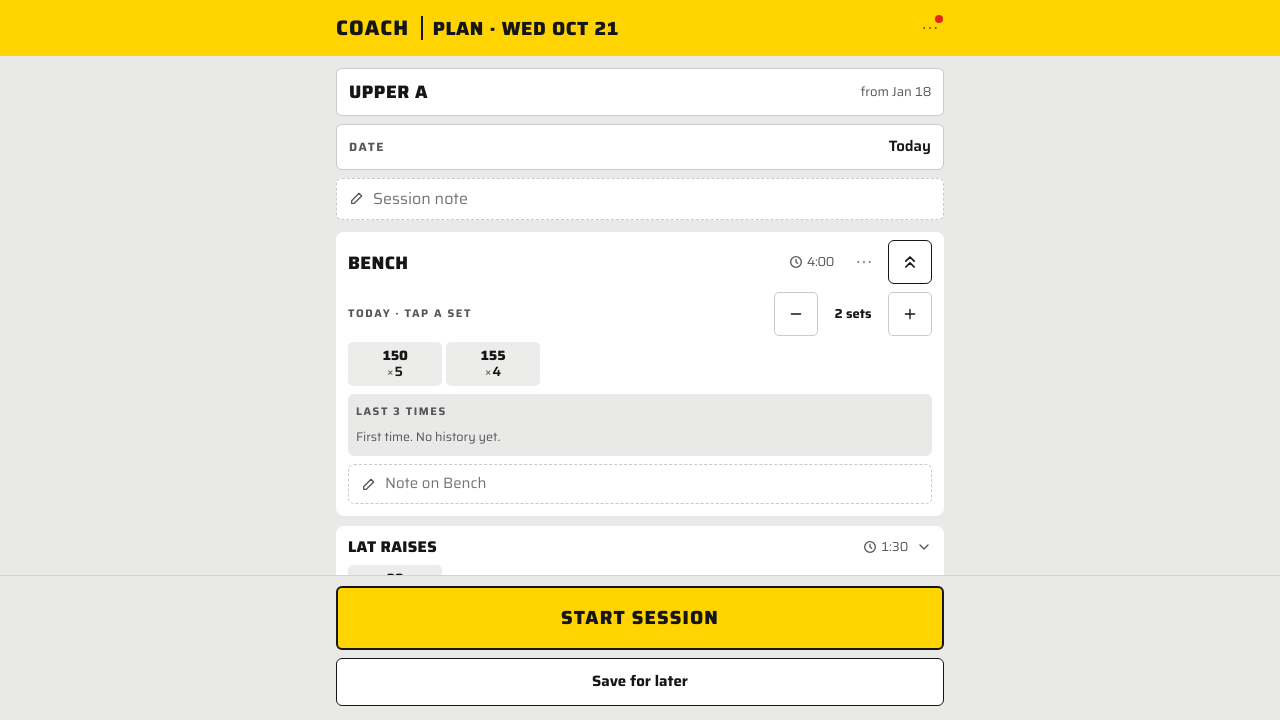
Test case: PlanView › won't save without a title
Clear the dropdown named "Session title" at (601, 92), box [349,69,852,115]
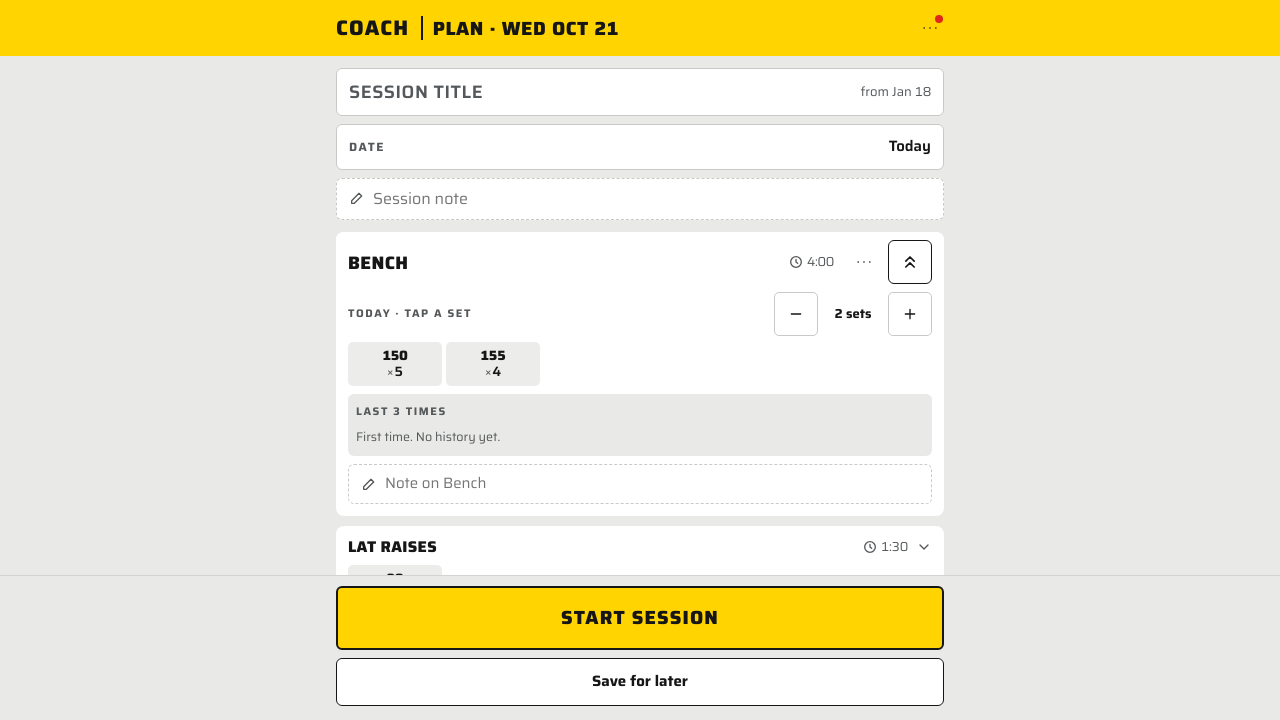
Click the button "Start session" at (640, 618), box [336,586,944,650]
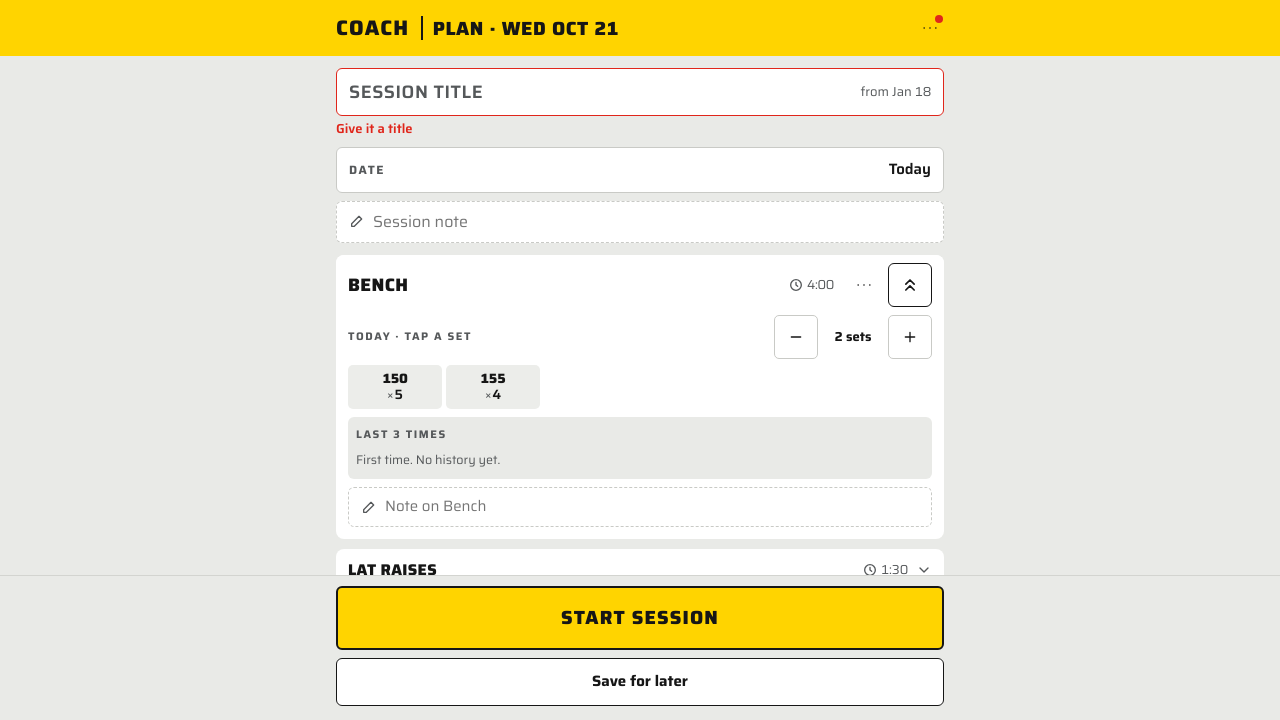
Now the text "Give it a title" is shown, box [336,118,413,139]
